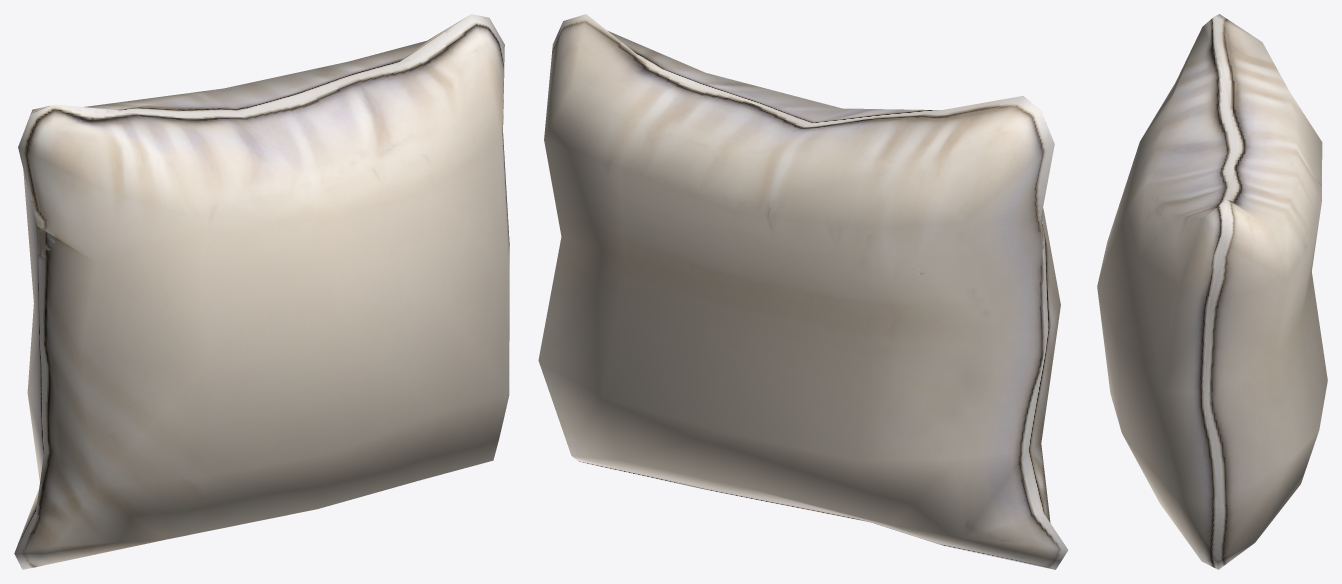
File: PillowC.FBX
3 renders of one model, left to right at view 1: azimuth 30°, elevation 25°; view 2: azimuth 150°, elevation 25°; view 3: azimuth 270°, elevation 25°, orthographic. The views are drawn at different scales.
Parts seen in each view (by area): view 1: PillowC; view 2: PillowC; view 3: PillowC.
Part boxes in pixels (bbox=[...]): PillowC: bbox=[14, 14, 509, 569]; PillowC: bbox=[538, 14, 1068, 569]; PillowC: bbox=[1097, 14, 1327, 569].
Bounding box in the file's own units: 50.27 × 24.59 × 44.73.
